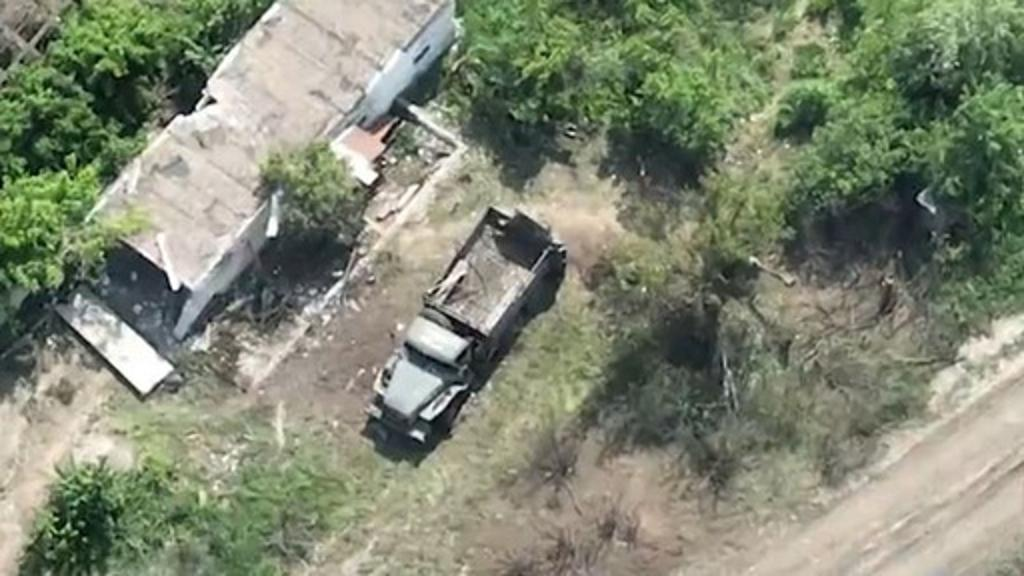TRUCK: (358, 200, 574, 452)
